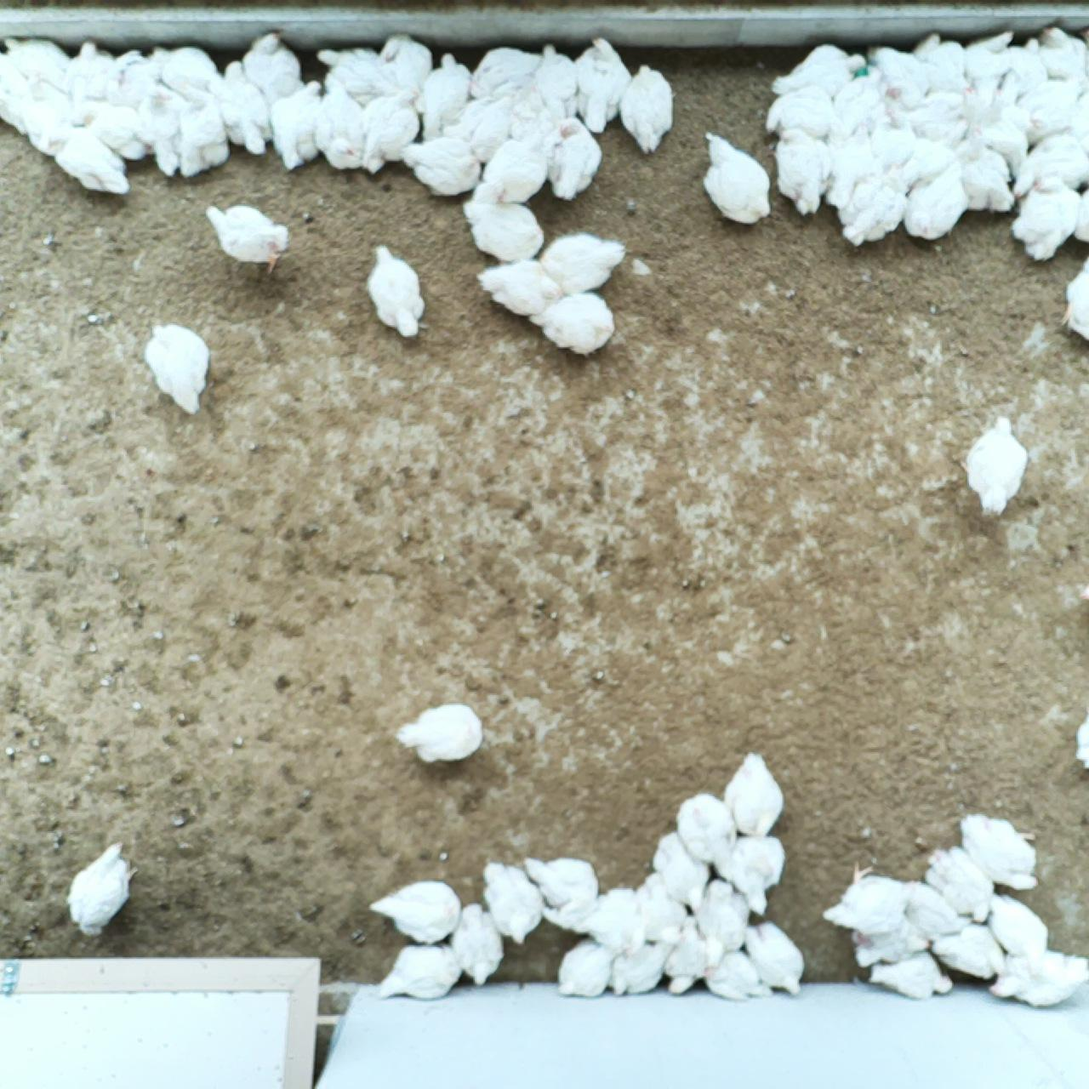chicken: (697, 128, 780, 228), (954, 414, 1030, 520), (969, 62, 1037, 178), (47, 122, 138, 206), (465, 125, 555, 208), (308, 36, 416, 105), (534, 229, 630, 305), (954, 811, 1042, 893), (821, 858, 913, 936), (143, 318, 221, 410), (981, 947, 1089, 1013), (205, 203, 300, 277), (919, 839, 999, 926), (64, 842, 135, 940), (572, 30, 632, 142), (6, 69, 78, 160), (268, 71, 326, 182), (476, 251, 565, 323), (767, 38, 871, 98), (365, 243, 429, 339), (136, 81, 195, 185), (617, 59, 677, 161), (902, 81, 996, 146), (150, 45, 231, 120), (947, 135, 1021, 217), (215, 61, 276, 160), (370, 879, 461, 945), (715, 834, 789, 915), (396, 698, 485, 765), (411, 43, 469, 144), (1007, 175, 1074, 262), (375, 936, 463, 1002), (769, 128, 834, 217), (527, 292, 617, 356), (1, 31, 80, 103), (651, 911, 717, 997), (478, 858, 543, 945), (464, 197, 545, 266), (835, 173, 904, 253), (174, 87, 232, 182), (1006, 131, 1089, 197), (904, 163, 970, 246), (358, 90, 420, 177), (865, 86, 922, 179), (313, 75, 366, 175), (738, 917, 804, 997), (1019, 78, 1089, 153), (675, 791, 739, 873), (820, 125, 877, 216), (653, 827, 714, 912), (549, 107, 604, 201), (75, 99, 153, 165), (399, 137, 483, 198), (726, 750, 786, 835), (65, 33, 120, 125), (449, 898, 506, 986), (238, 30, 310, 99), (922, 918, 1001, 980), (891, 875, 965, 940), (868, 44, 929, 122), (864, 951, 951, 1005), (534, 39, 585, 131), (1022, 19, 1089, 89), (577, 884, 643, 955), (692, 877, 754, 952), (762, 84, 842, 142), (896, 123, 967, 188), (829, 69, 887, 148), (464, 37, 543, 94), (523, 855, 598, 915), (986, 889, 1050, 958), (378, 31, 436, 106), (699, 943, 770, 1004), (623, 871, 684, 939), (904, 30, 972, 90), (847, 918, 934, 964), (466, 92, 517, 169), (554, 934, 618, 995), (611, 931, 670, 996), (992, 30, 1049, 97), (436, 92, 504, 146), (107, 53, 161, 121), (959, 28, 1015, 92), (493, 75, 546, 142), (1052, 253, 1089, 340), (0, 48, 36, 137), (1069, 188, 1089, 246), (1074, 710, 1089, 773)
